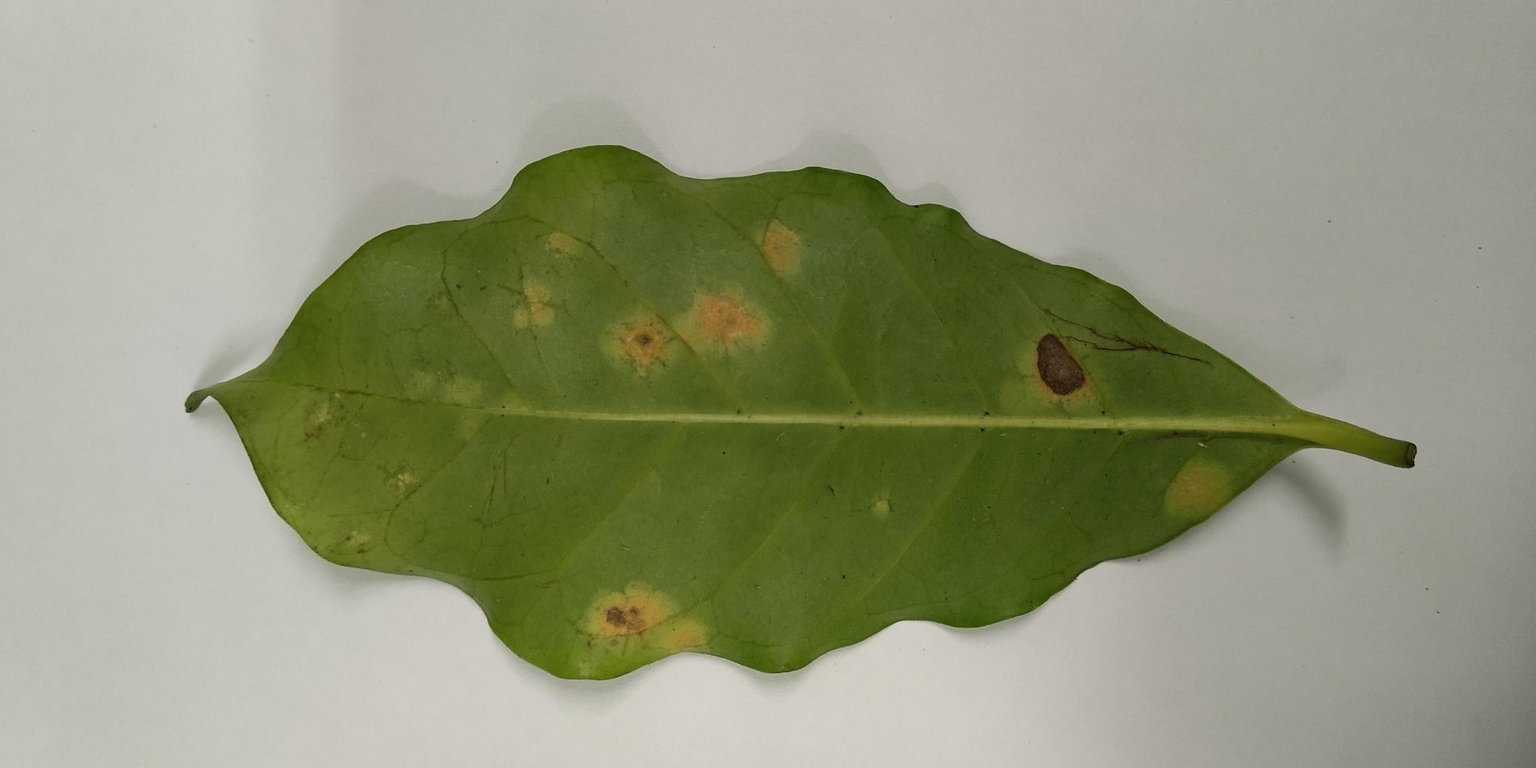Cercospora: (994, 306, 1119, 416)
Rust: (668, 267, 785, 386)
